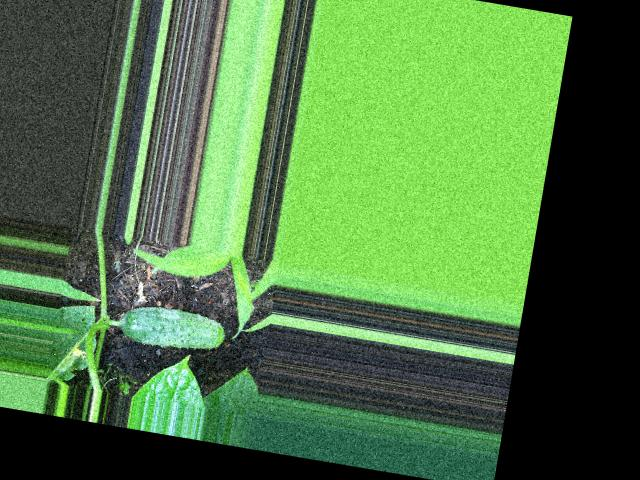cucumber: (118, 300, 229, 356)
